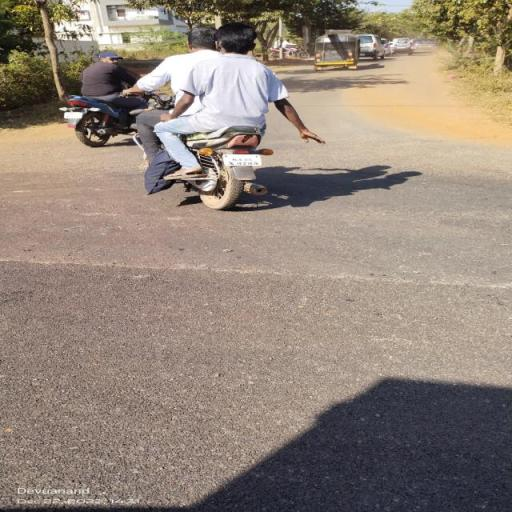bike: (123, 20, 320, 212)
withouthelmet: (216, 24, 257, 54), (188, 28, 221, 49)
